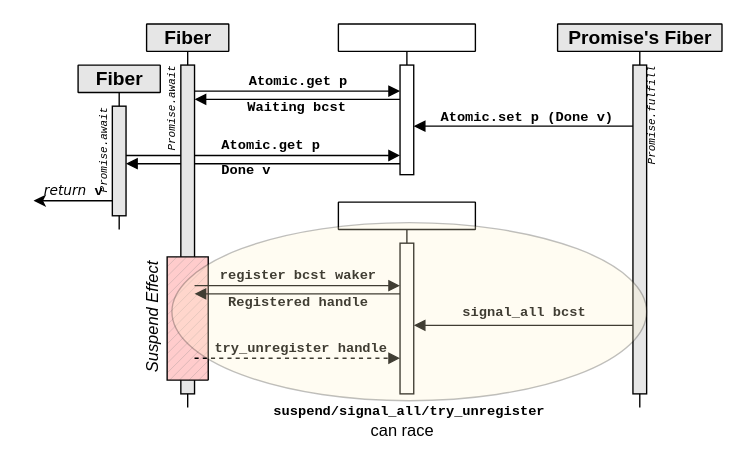
This 747x463 diagram has some shape labels left out. Here are the shapes that lost their labels. From the top down, the centre of each, then its label:
At (406,37): "Promise p".
At (406,215): "Broadcast".
